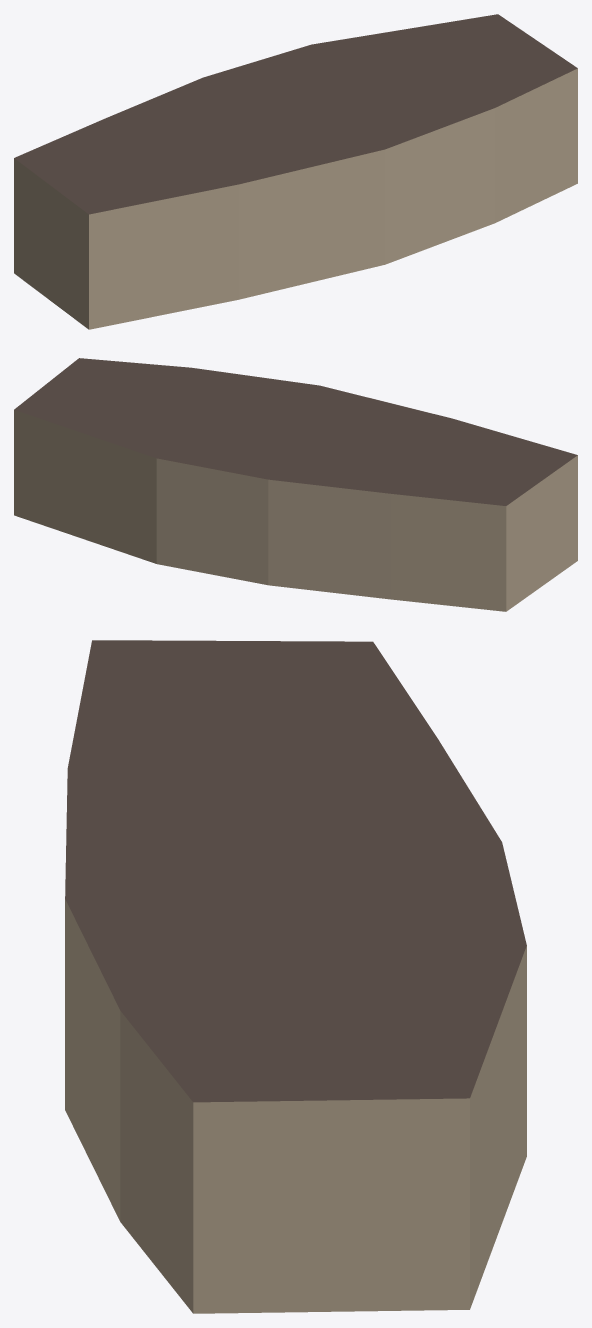
3 views of the same model, one above another, from view 1: azimuth 30°, elevation 25°; view 2: azimuth 150°, elevation 25°; view 3: azimuth 270°, elevation 25° (orthographic). The views are drawn at different scales.
Visible parts, largest first — view 1: HP-w350277177; view 2: HP-w350277177; view 3: HP-w350277177.
Part boxes in pixels (x1,y1,x2,y2): HP-w350277177: (14,14,577,329); HP-w350277177: (14,358,577,611); HP-w350277177: (65,640,526,1313).
Bounding box in the file's own units: 42.2 × 9 × 17.82.
